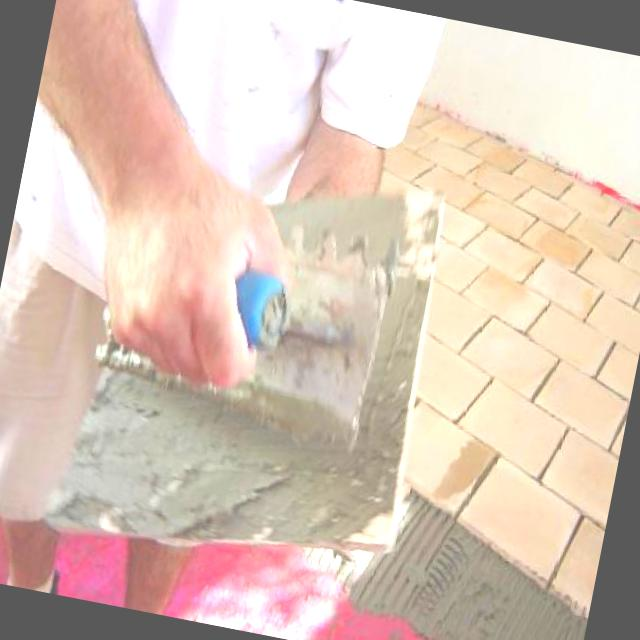Person: (0, 0, 458, 582)
